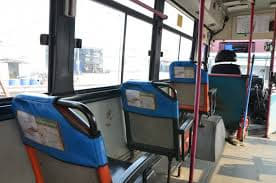seat: (14, 91, 152, 180)
